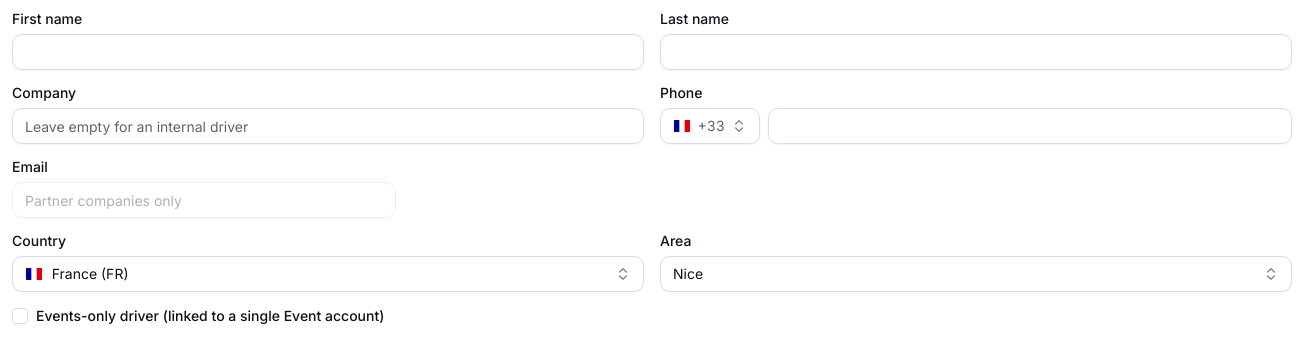
Scenario: DriverFormFields › locks the Email field for an in-house driver, and opens it once a Company is named
Expected: the field labelled "Email" is disabled, [12,182,396,218]
Type "Riviera Cars" into the field labelled "Company". click: coordinates (328, 126)
box: [12,108,644,144]
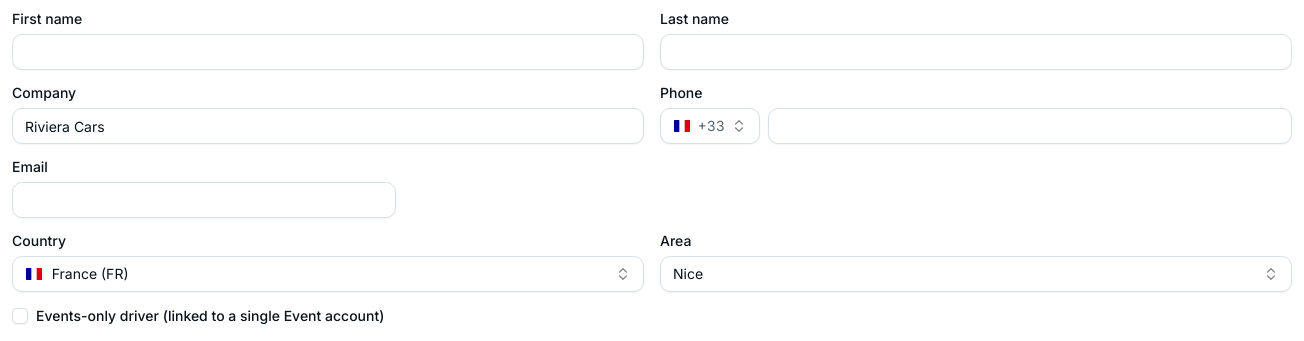
Result: the field labelled "Email" is enabled at [12,182,396,218]
